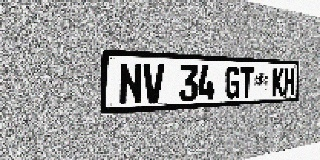3: (179, 65, 198, 102)
4: (198, 65, 215, 101)
G: (225, 66, 240, 99)
H: (284, 68, 295, 96)
K: (272, 68, 284, 97)
N: (119, 62, 142, 105)
T: (240, 67, 254, 98)
V: (143, 63, 164, 104)
